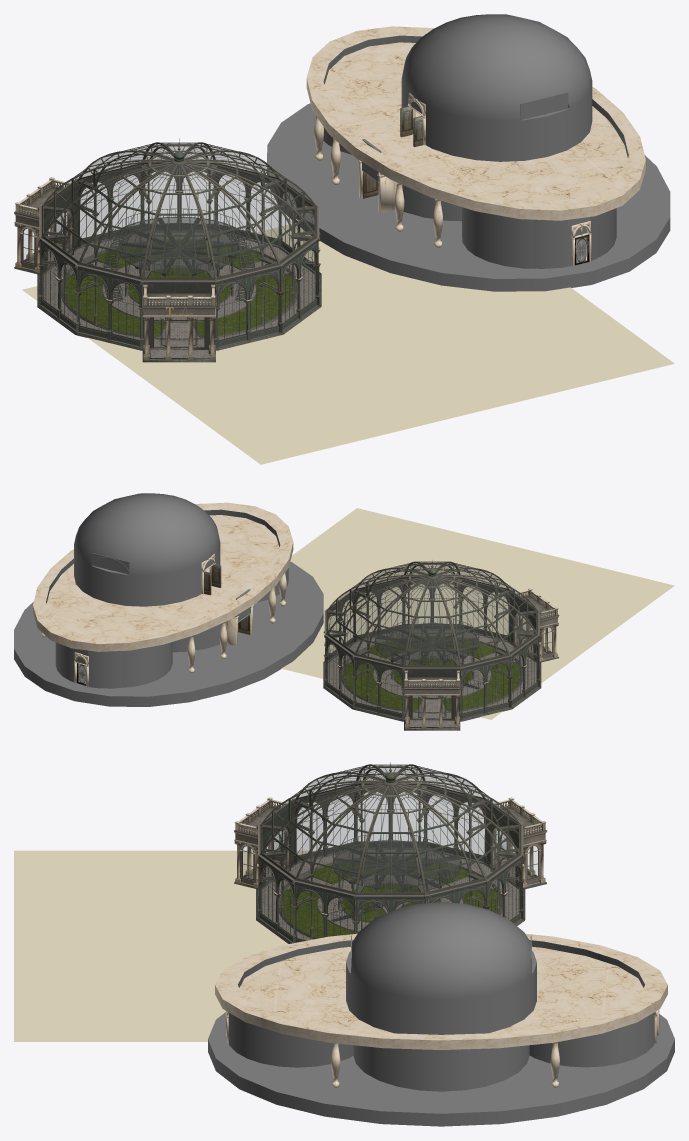
3 views of the same model, one above another, from view 1: azimuth 30°, elevation 25°; view 2: azimuth 150°, elevation 25°; view 3: azimuth 270°, elevation 25° (orthographic). The views are drawn at different scales.
Parts seen in each view (by area): view 1: TERRASHOP_Main_store (NOT FOR SALE) (×26), Terrain 10,5, Round House, round house top floor/balcony, roof, round house topfloor balcony, round house upper wall/roof, round house lower wall (×3), round house centre wall, Iron top rounded window, ROUND HOUSE central room; view 2: TERRASHOP_Main_store (NOT FOR SALE) (×28), Terrain 10,5, Round House, round house top floor/balcony, roof, round house topfloor balcony, round house upper wall/roof, round house end wall (×2), round house iron window, round house centre wall, Iron top rounded window, ROUND HOUSE central room; view 3: TERRASHOP_Main_store (NOT FOR SALE) (×28), Terrain 10,5, Round House, roof, round house top floor/balcony, round house topfloor balcony, round house upper wall/roof (×3), round house centre wall, round house lower wall, round house end wall.
Part boxes in pixels (x1,y1,x2,y2): TERRASHOP_Main_store (NOT FOR SALE) (×26): (14,142,321,362); Terrain 10,5: (22,223,674,464); Round House: (267,103,670,291); round house top floor/balcony: (324,42,627,201); roof: (402,14,592,121); round house topfloor balcony: (306,26,645,220); round house upper wall/roof: (426,82,592,161); round house lower wall (×3): (471,208,616,268); round house centre wall: (402,185,461,221); Iron top rounded window: (520,92,568,120); ROUND HOUSE central room: (357,159,396,212); TERRASHOP_Main_store (NOT FOR SALE) (×28): (323,561,559,730); Terrain 10,5: (281,508,674,719); Round House: (14,562,323,706); round house top floor/balcony: (46,515,279,636); roof: (74,493,220,575); round house topfloor balcony: (33,502,293,651); round house upper wall/roof: (74,545,201,606); round house end wall (×2): (55,642,122,688); round house iron window: (122,644,166,687); round house centre wall: (172,624,221,652); Iron top rounded window: (91,553,129,574); ROUND HOUSE central room: (225,605,253,645); TERRASHOP_Main_store (NOT FOR SALE) (×28): (234,764,547,943); Terrain 10,5: (14,850,466,1041); Round House: (208,1012,674,1126); roof: (351,902,531,999); round house top floor/balcony: (239,946,643,1033); round house topfloor balcony: (215,933,667,1049); round house upper wall/roof (×3): (346,951,536,1034); round house centre wall: (353,1045,529,1091); round house lower wall: (228,1012,353,1067); round house end wall: (529,1012,654,1067).
Size of the model in its own units: 92.9 by 23.48 by 93.41.
Materials: 72 (71 with a texture image).
